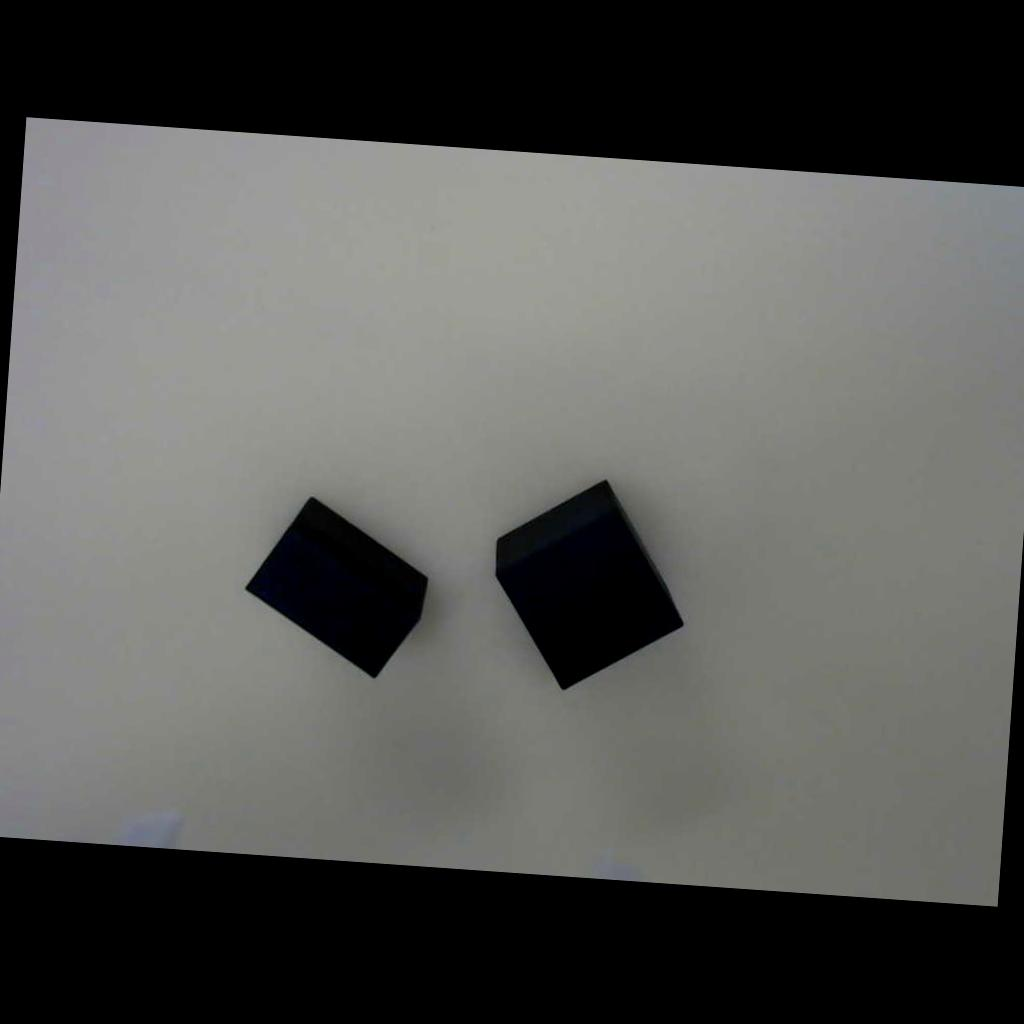rectangle: (225, 475, 460, 700)
square: (455, 453, 712, 721)
